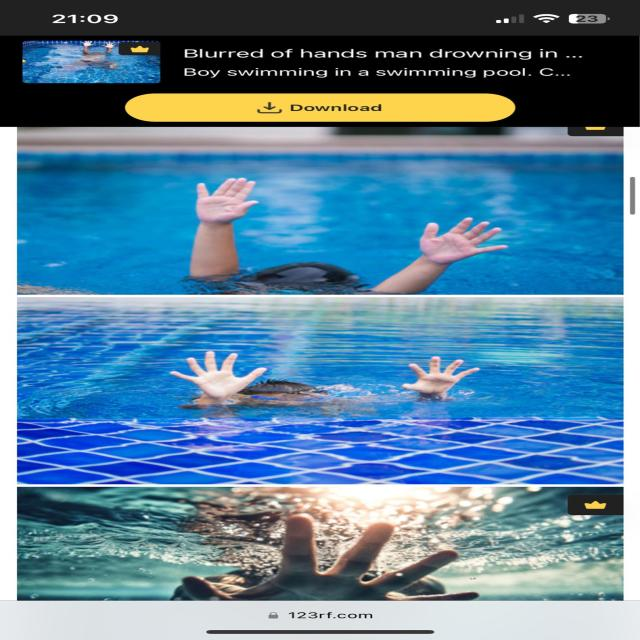Drowning: (178, 175, 497, 286), (161, 348, 485, 407)
